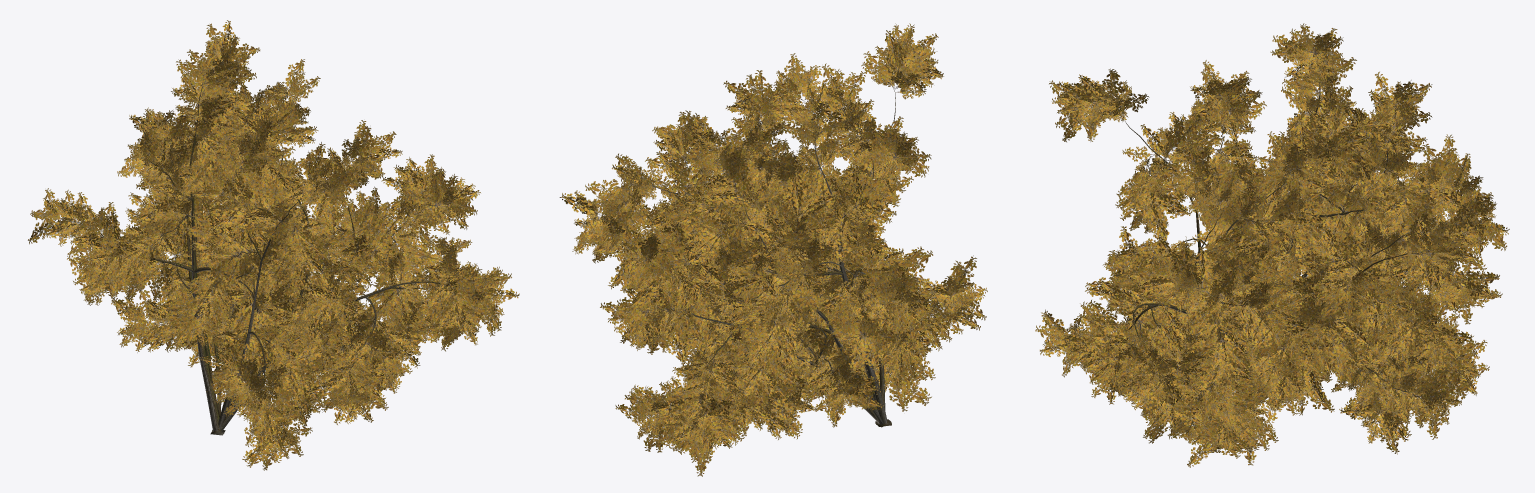
The model's file is arbuste-2.glb.
3 views of the same model, side by side, from view 1: azimuth 30°, elevation 25°; view 2: azimuth 150°, elevation 25°; view 3: azimuth 270°, elevation 25° (orthographic). The views are drawn at different scales.
Parts seen in each view (by area): view 1: Tree_2; view 2: Tree_2; view 3: Tree_2.
Part boxes in pixels (left/top/right/bottom): Tree_2: left=28, top=20, right=519, bottom=470; Tree_2: left=559, top=23, right=987, bottom=476; Tree_2: left=1035, top=23, right=1509, bottom=467.
Size of the model in its own units: 29.35 by 28.25 by 29.49.
Materials: 2 (2 with a texture image).
